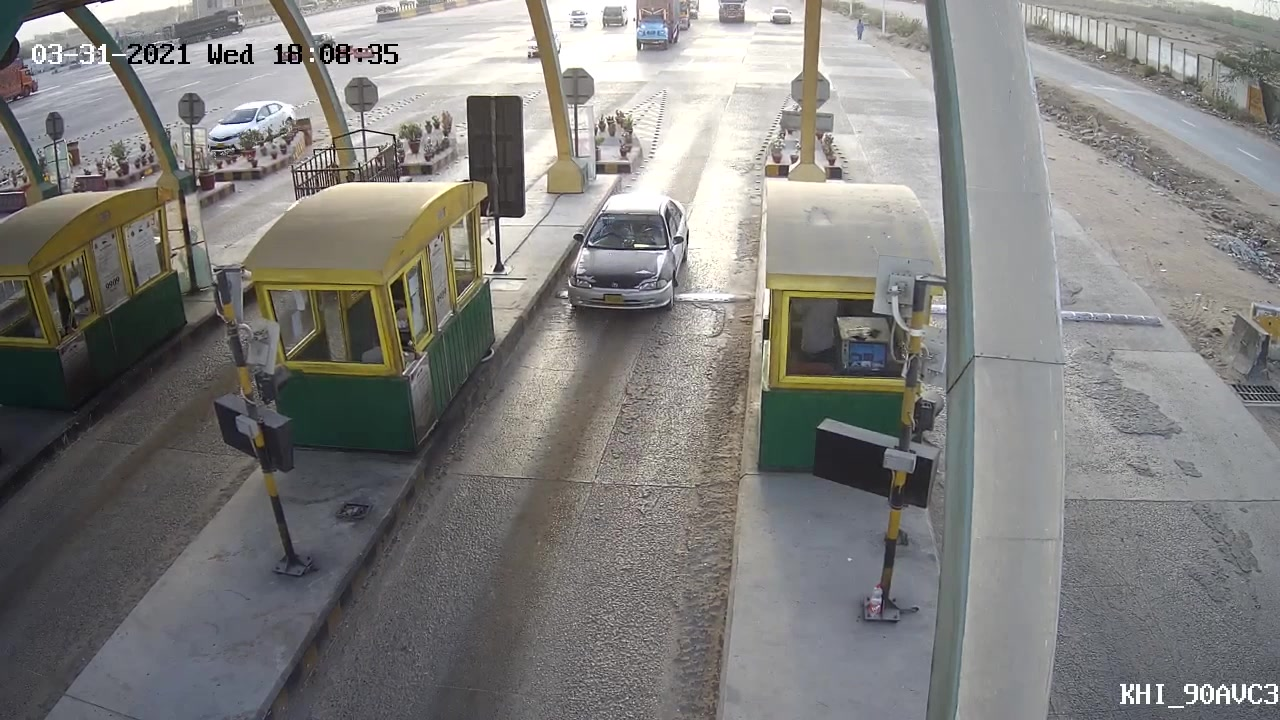F1: (558, 190, 698, 328)
